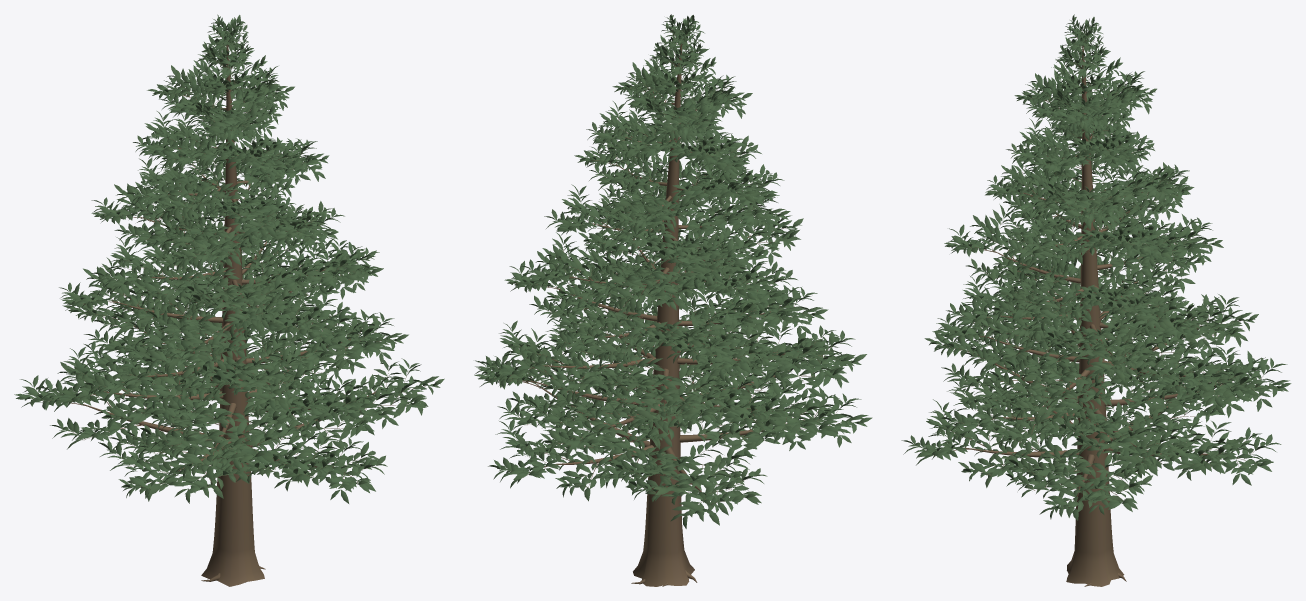
File: corealm_pine_3.glb
The picture shows the model from 3 angles, left to right: view 1: azimuth 30°, elevation 25°; view 2: azimuth 150°, elevation 25°; view 3: azimuth 270°, elevation 25°; orthographic projection. The views are drawn at different scales.
Parts seen in each view (by area): view 1: corealm_pine_3; view 2: corealm_pine_3; view 3: corealm_pine_3.
Boxes of the visible parts, left/top/right/bottom form: corealm_pine_3: left=14, top=14, right=444, bottom=586; corealm_pine_3: left=474, top=14, right=872, bottom=586; corealm_pine_3: left=901, top=14, right=1291, bottom=586.
Bounding box in the file's own units: 5.24 × 7.69 × 4.95.
